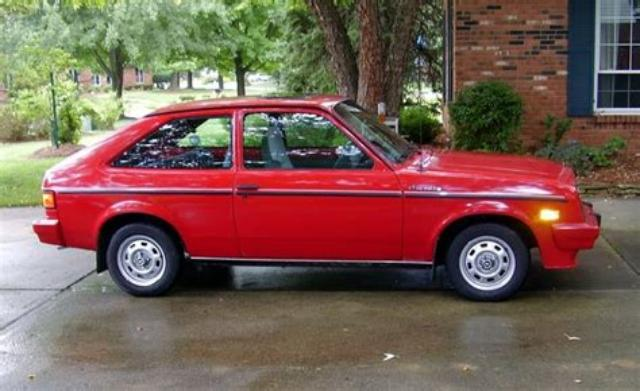chevette-1983: (32, 96, 601, 301)
